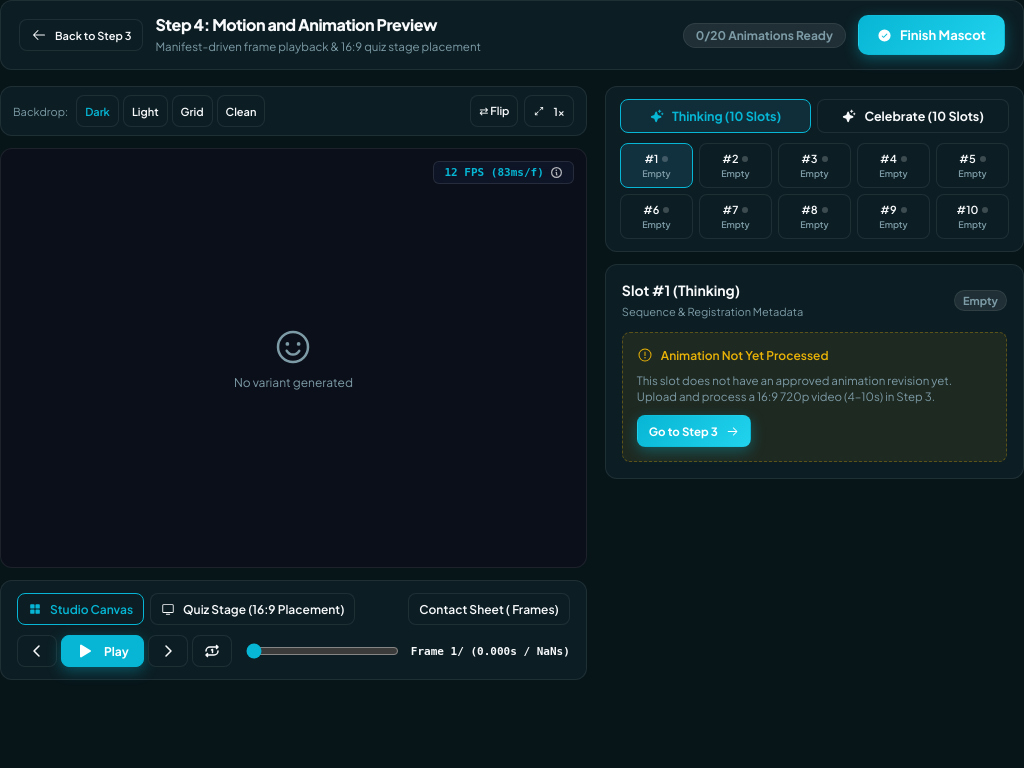
Test: MascotMotionAnimationStep › toggles play/pause on transport button click
The width and height of the screenshot is (1024, 768).
Click the button with test id "play-pause-btn" at (102, 651), box [61,635,144,667]
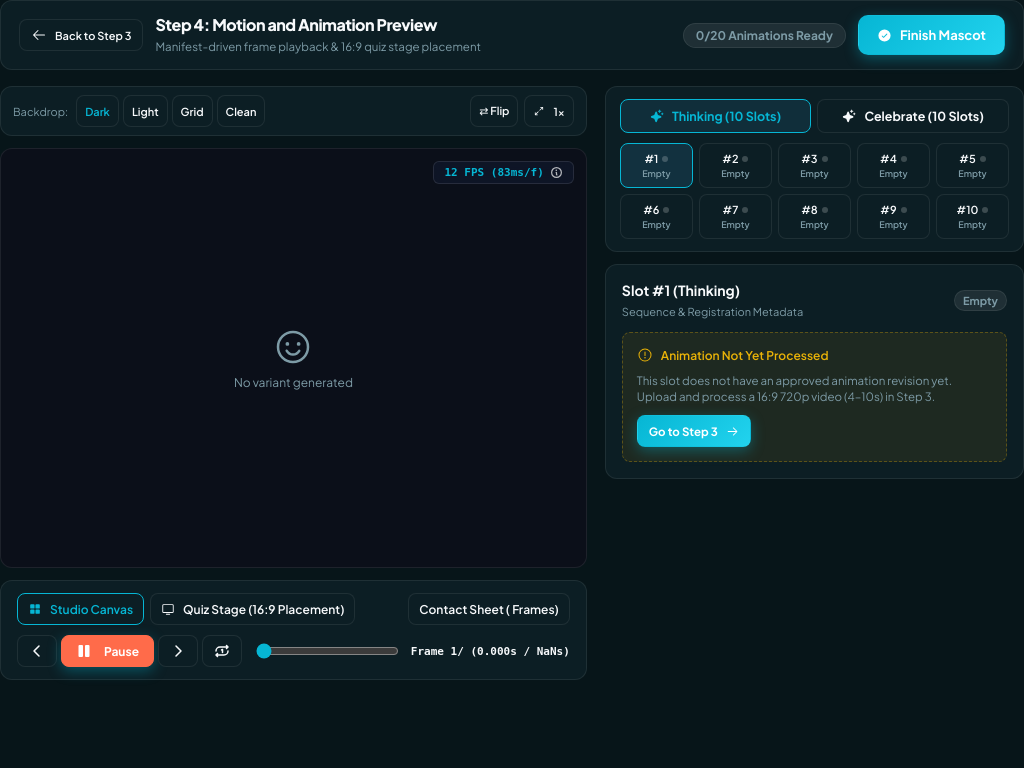
Check: the button with test id "play-pause-btn" reads "Pause"
Click the button with test id "play-pause-btn" at (108, 651), box [61,635,154,667]
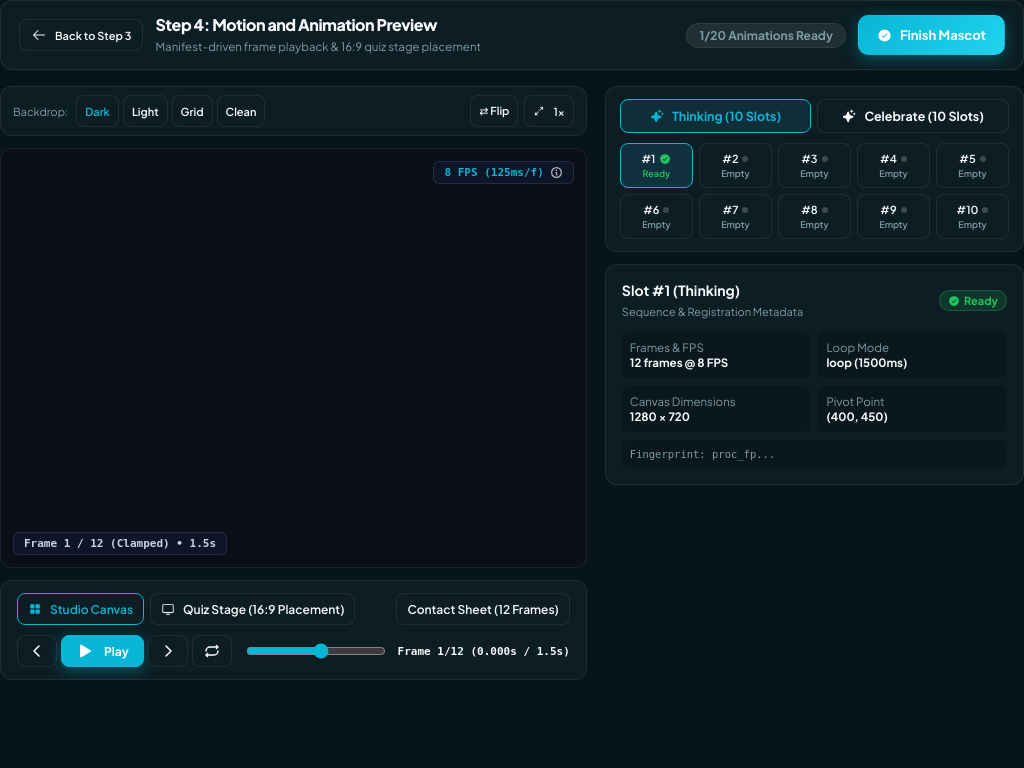
Check: the button with test id "play-pause-btn" reads "Play", box [61,635,144,667]
